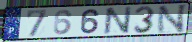3: (133, 5, 157, 35)
6: (52, 9, 74, 36), (80, 8, 101, 35)
7: (25, 9, 49, 38)
N: (156, 3, 189, 35), (102, 6, 133, 36)
